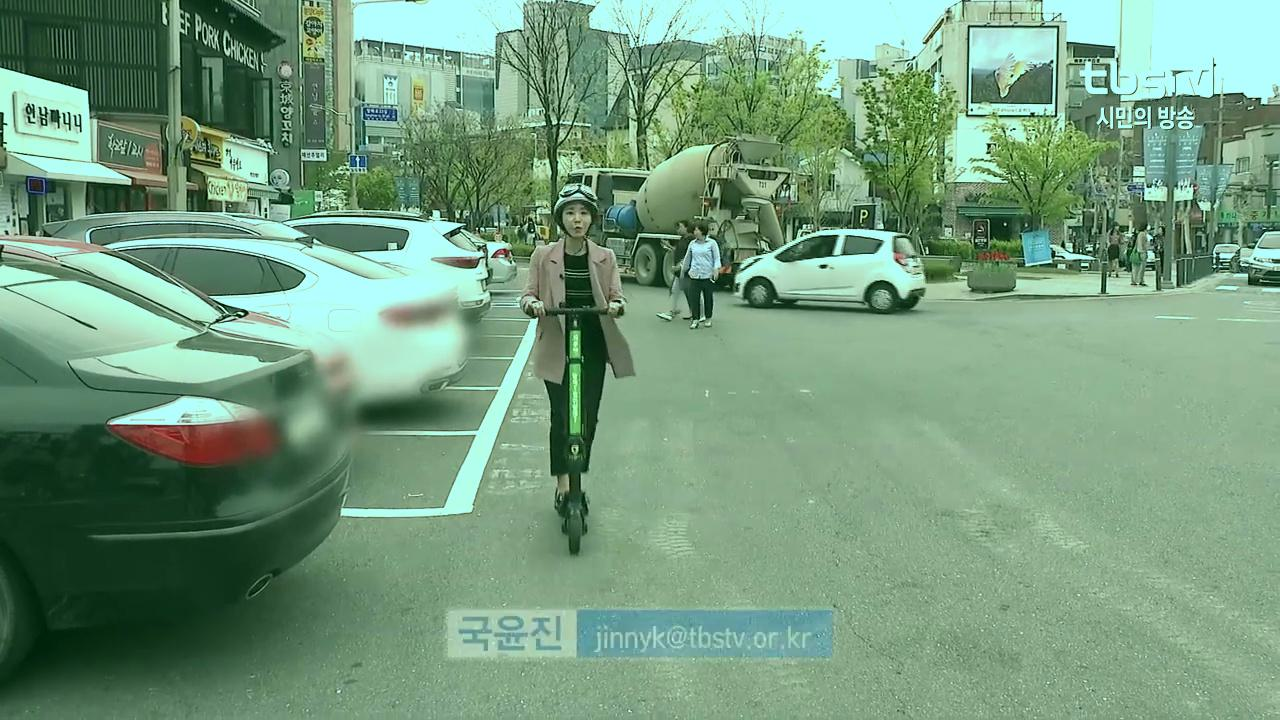helmet: (518, 182, 639, 558)
